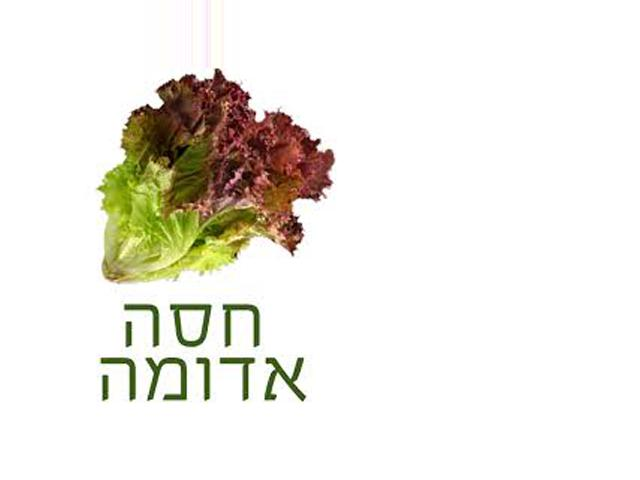lettuce: (74, 68, 338, 290)
